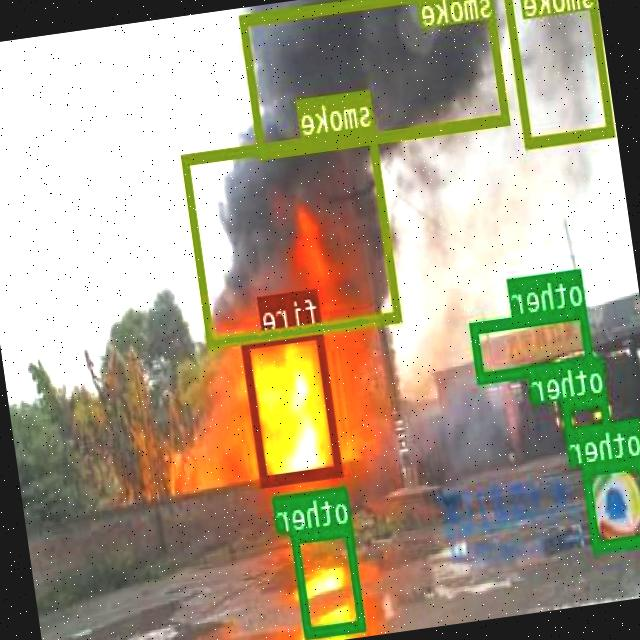fire: (242, 326, 344, 484)
smoke: (182, 128, 404, 348), (240, 0, 511, 158), (505, 0, 616, 147)
